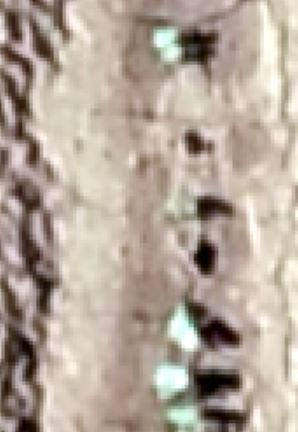cotton: (170, 307, 199, 348), (157, 365, 187, 395), (154, 31, 181, 59), (171, 409, 197, 432)
